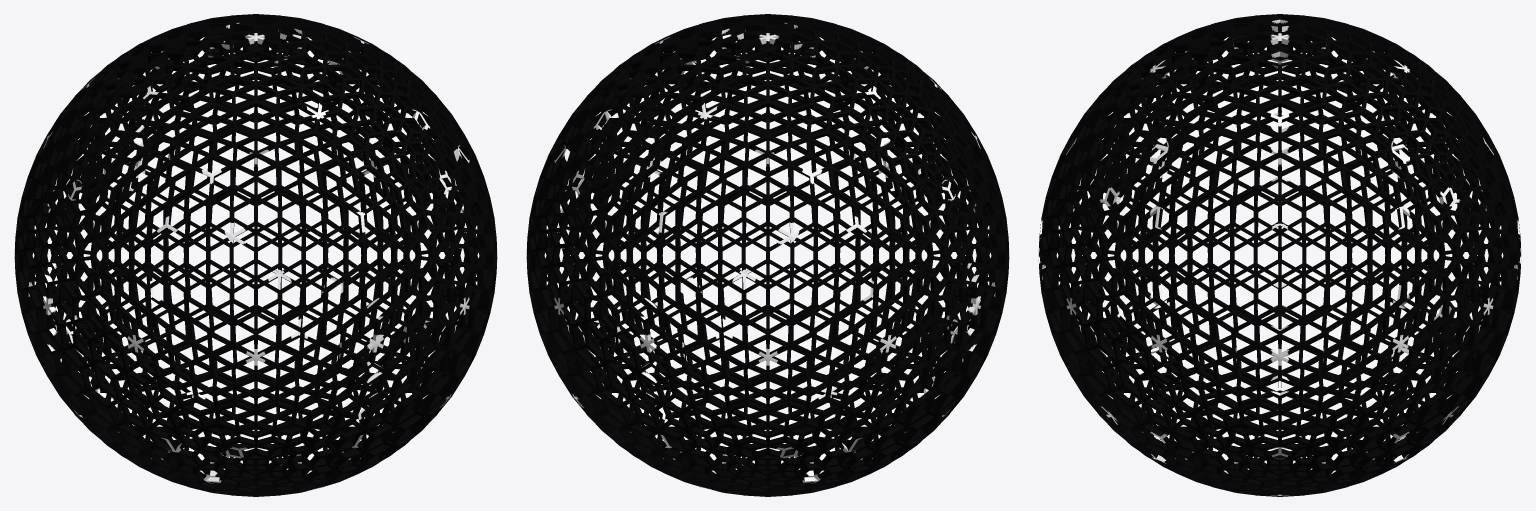
The model's file is geode.fbx.
3 renders of one model, left to right at view 1: azimuth 30°, elevation 25°; view 2: azimuth 150°, elevation 25°; view 3: azimuth 270°, elevation 25°, orthographic.
Visible parts, largest first — view 1: GEODE; view 2: GEODE; view 3: GEODE.
Part boxes in pixels (x1,y1,x2,y2): GEODE: (14,14,497,496); GEODE: (526,14,1009,496); GEODE: (1038,14,1521,496).
Size of the model in its own units: 410 by 410 by 410.
